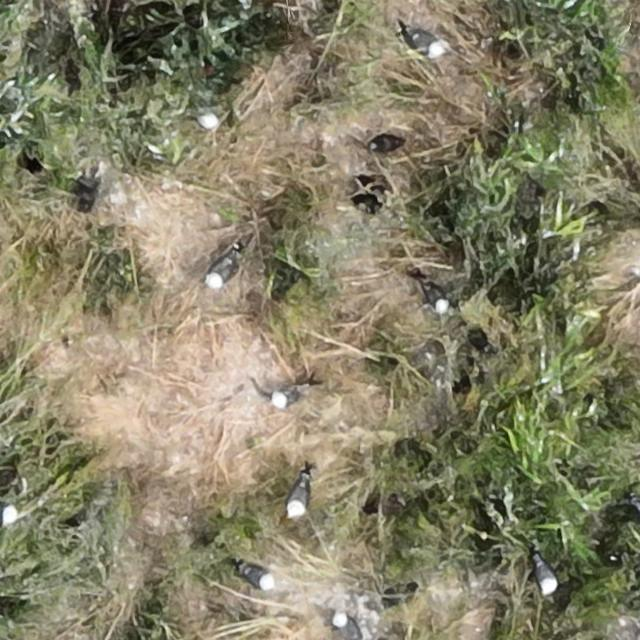umineko: (272, 382, 309, 406), (209, 254, 236, 286), (407, 33, 444, 55), (288, 480, 309, 516), (536, 560, 558, 594), (239, 566, 270, 589), (426, 286, 450, 312), (200, 100, 222, 128), (336, 616, 356, 637), (0, 505, 17, 526)
